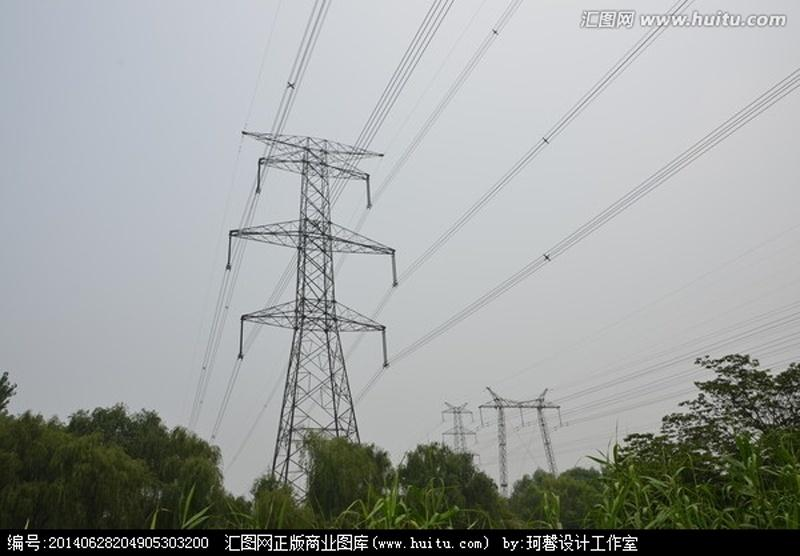power_tower: (218, 119, 394, 521), (478, 385, 566, 509), (433, 390, 482, 476)
